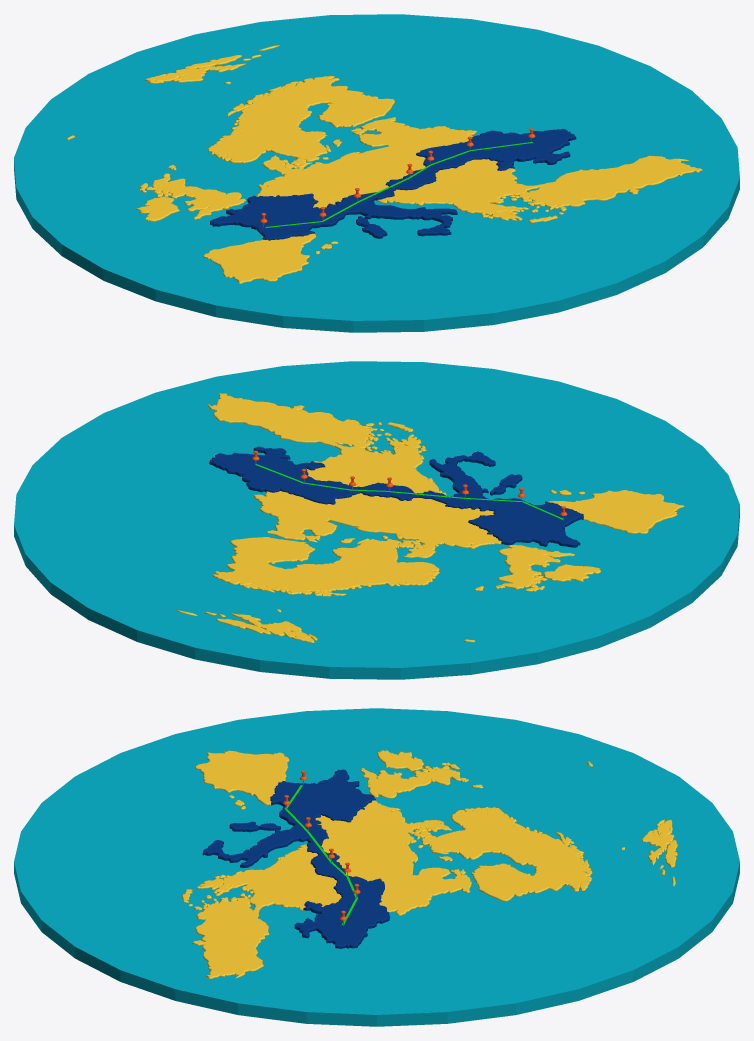
The model's file is EUROPE_MAP.gltf.
The picture shows the model from 3 angles, top to bottom: view 1: azimuth 30°, elevation 25°; view 2: azimuth 150°, elevation 25°; view 3: azimuth 270°, elevation 25°; orthographic projection.
Parts seen in each view (by area): view 1: Cylinder, Curve.030, Curve.031, ukraine, france, Curve.002, Curve.011, Curve.036, italie, Curve.039, Curve.001, Curve.024 (+7 smaller); view 2: Cylinder, Curve.030, Curve.031, ukraine, france, Curve.002, Curve.011, Curve.036, italie, Curve.039, Curve.001, Curve.024 (+7 smaller); view 3: Cylinder, Curve.030, ukraine, Curve.031, france, Curve.002, Curve.011, Curve.036, italie, Curve.039, Curve.001, Curve.024 (+6 smaller).
Part boxes in pixels (x1,y1,x2,y2): Cylinder: [14, 14, 739, 332]; Curve.030: [510, 155, 702, 208]; Curve.031: [66, 45, 339, 163]; ukraine: [416, 129, 576, 170]; france: [210, 193, 369, 240]; Curve.002: [251, 95, 342, 162]; Curve.011: [203, 233, 338, 281]; Curve.036: [274, 81, 394, 127]; italie: [324, 193, 457, 238]; Curve.039: [274, 162, 360, 201]; Curve.001: [139, 164, 245, 219]; Curve.024: [328, 145, 425, 174]; Cylinder: [14, 361, 739, 679]; Curve.030: [207, 393, 374, 453]; Curve.031: [176, 559, 475, 642]; ukraine: [209, 446, 360, 504]; france: [468, 485, 583, 547]; Curve.002: [270, 538, 400, 587]; Curve.011: [548, 490, 667, 533]; Curve.036: [226, 537, 315, 585]; italie: [429, 451, 522, 511]; Curve.039: [395, 506, 479, 547]; Curve.001: [475, 545, 574, 591]; Curve.024: [324, 495, 405, 533]; Cylinder: [14, 708, 739, 1026]; Curve.030: [192, 896, 269, 978]; ukraine: [294, 875, 389, 948]; Curve.031: [451, 761, 677, 891]; france: [259, 769, 375, 830]; Curve.002: [421, 830, 570, 871]; Curve.011: [195, 752, 289, 809]; Curve.036: [471, 857, 580, 901]; italie: [202, 815, 328, 867]; Curve.039: [330, 813, 417, 847]; Curve.001: [360, 759, 483, 798]; Curve.024: [352, 843, 418, 881].
Size of the model in its own units: 12.24 by 0.5393 by 12.24.
